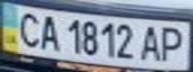1: (60, 16, 84, 54), (97, 19, 118, 58)
2: (115, 20, 139, 61)
8: (78, 17, 100, 56)
A: (136, 23, 163, 62), (36, 12, 60, 52)
C: (12, 8, 45, 50)
P: (157, 24, 190, 63)
